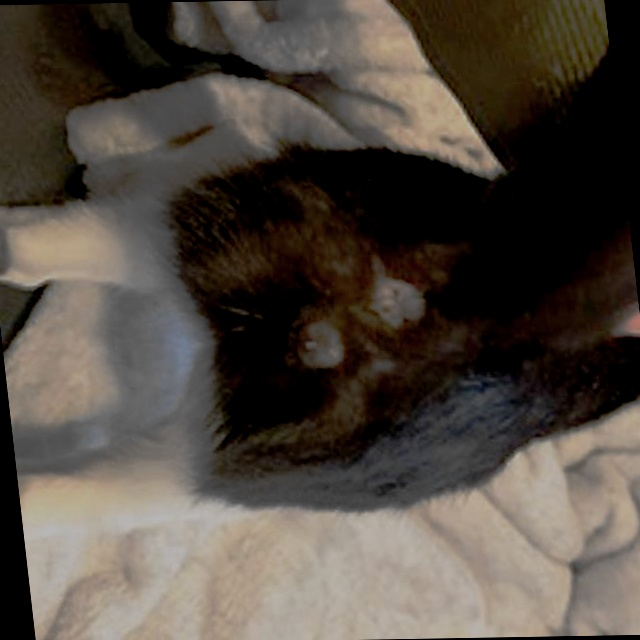lump_and_bump: (368, 283, 425, 325), (300, 326, 347, 366)
